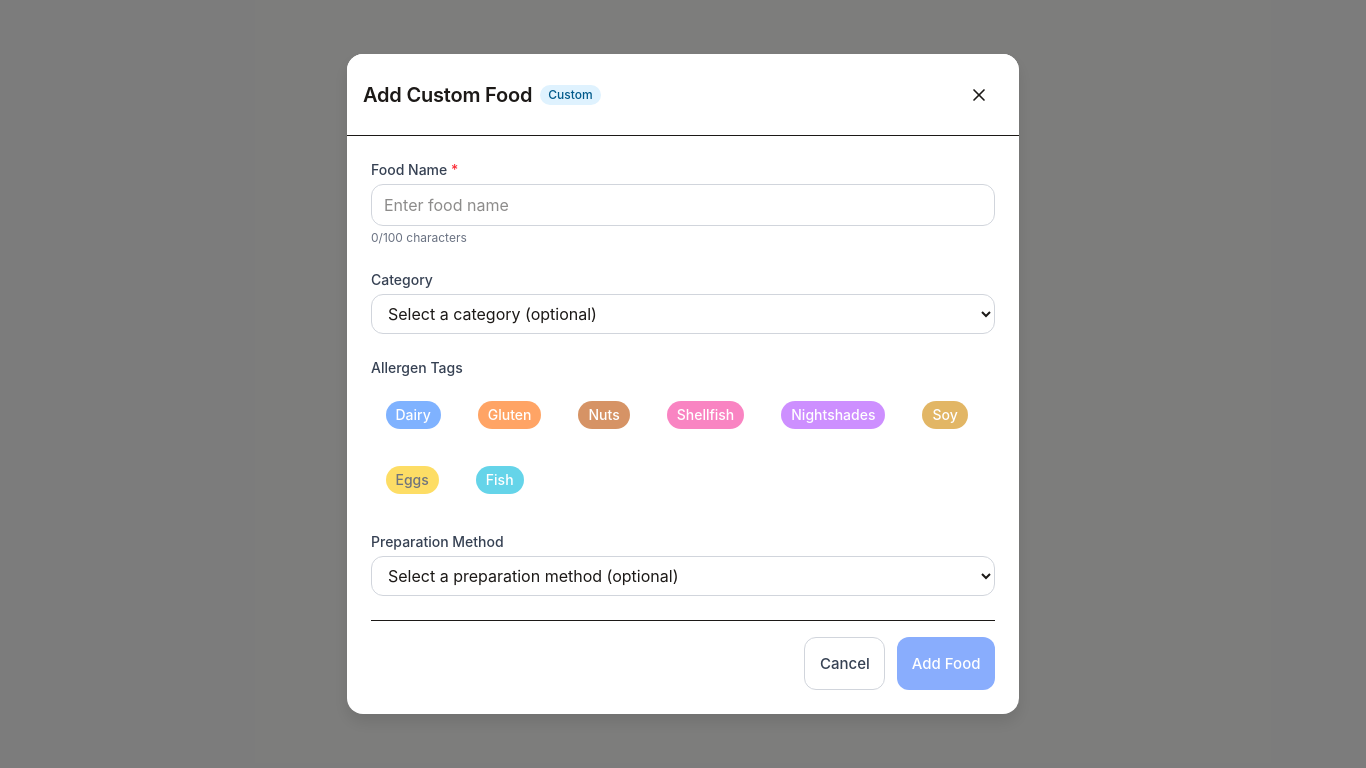
Scenario: AddFoodModal › Allergen Selection › allows selecting single allergen
The image size is (1366, 768).
Click the button with aria-label "select dairy allergen".
click(413, 415)  # box x1=371 y1=386 x2=455 y2=443
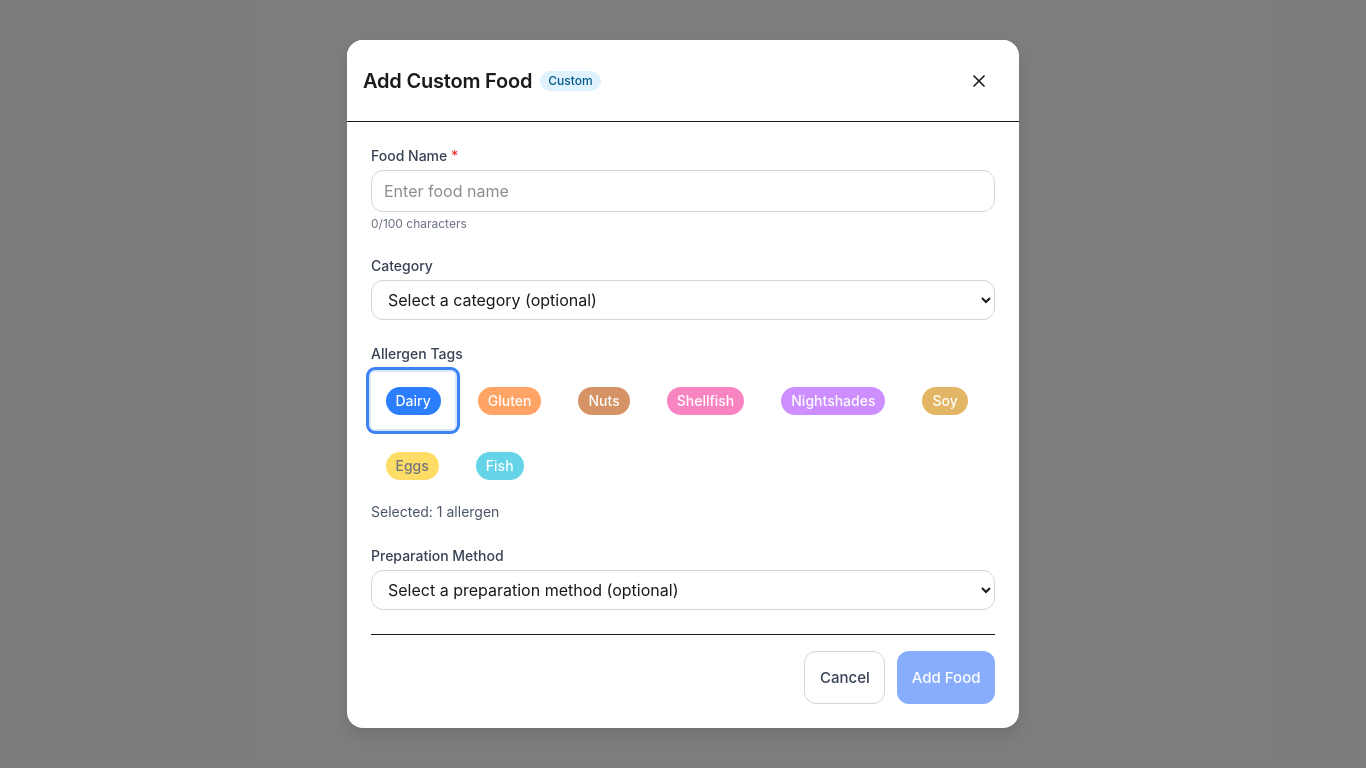
Expected: the text "Selected: 1 allergen" is shown, x1=371 y1=503 x2=499 y2=520
